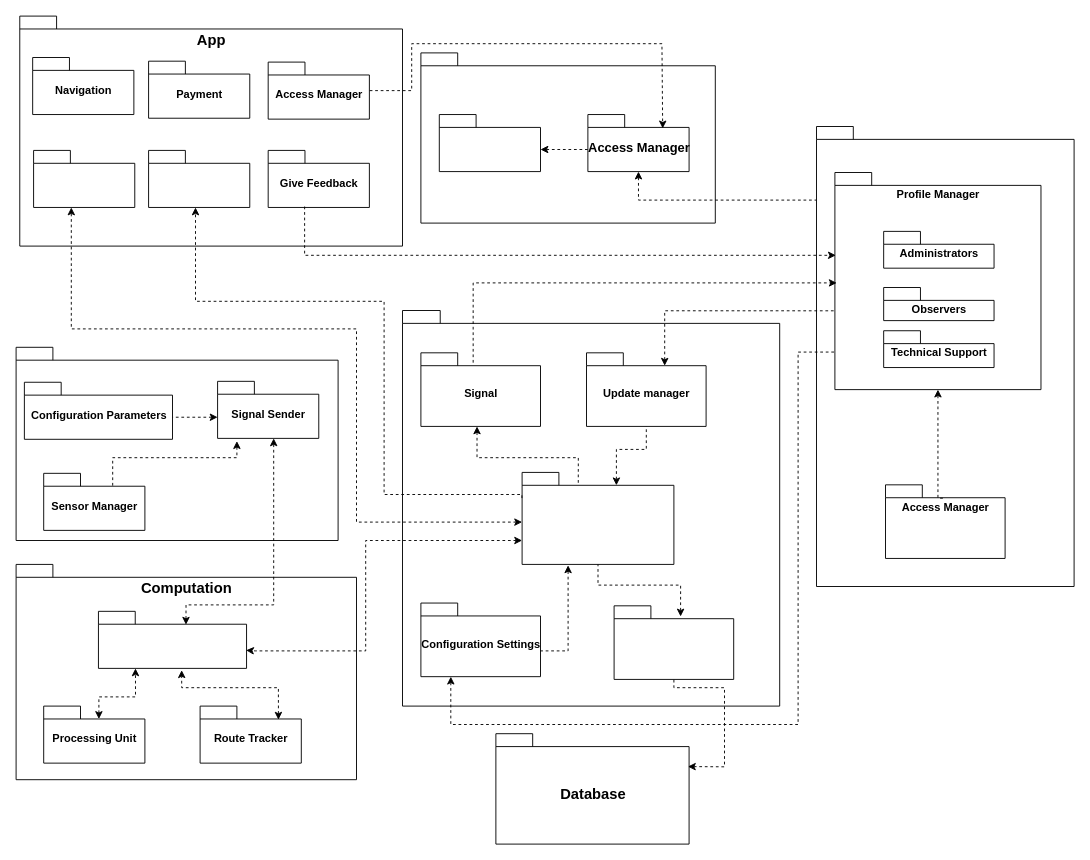
Image size: 1090x860. Some labels were removed from this diagram. The box of each missing label's shape, as (x1, y1, x2, y2) in pixels:
Bicycle: (15, 346, 338, 540)
Communication Manager: (98, 610, 247, 668)
Database manager: (613, 605, 734, 679)
Find Nearest Bikes: (33, 150, 135, 207)
Notifications: (148, 150, 250, 207)
Scheduler: (521, 472, 674, 564)
Server: (402, 310, 780, 706)
User Data: (438, 114, 540, 172)
User Manager: (420, 52, 715, 223)
Web Site: (816, 126, 1074, 586)
